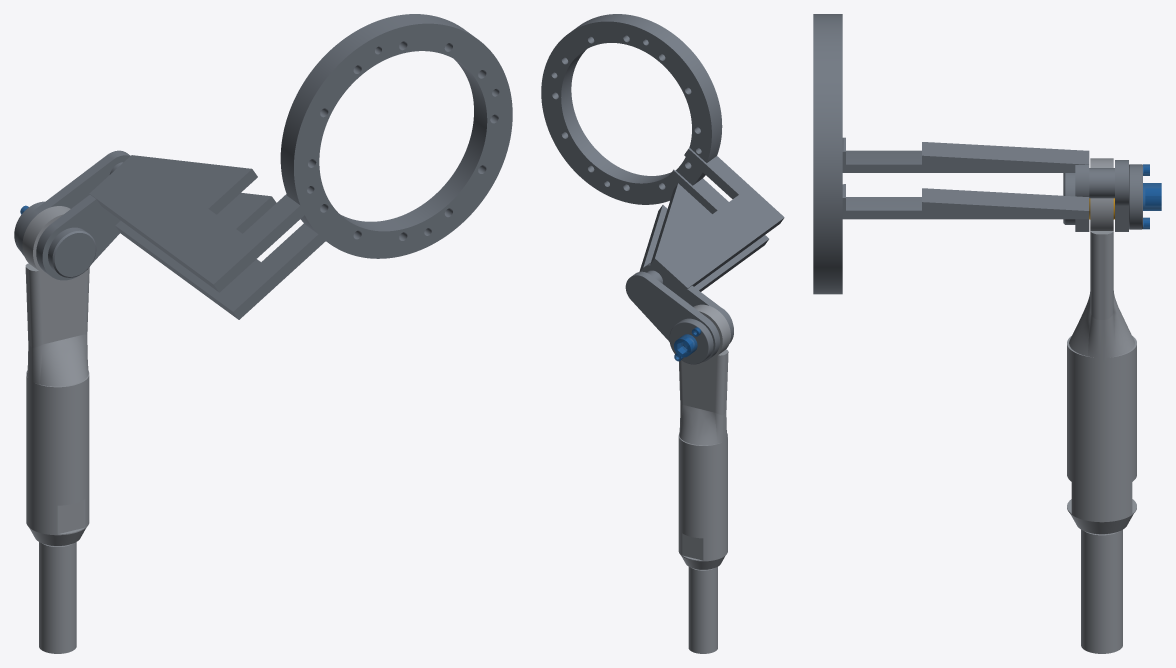
Rendered from j3-articulation.glb.
The picture shows the model from 3 angles, left to right: view 1: azimuth 30°, elevation 25°; view 2: azimuth 150°, elevation 25°; view 3: azimuth 270°, elevation 25°; orthographic projection. The views are drawn at different scales.
Visible parts, largest first — view 1: R2-I-J3-ROCKER-R, R2-E-PUSHROD-ROD-R-B, R2-AA-LINK-PIN-FRONT-R; view 2: R2-I-J3-ROCKER-R, R2-E-PUSHROD-ROD-R-B, R2-AB-LINK-PIN-KEEPER-FRONT-R, REF-LINK-CLAMP-SCREW-FRONT-R; view 3: R2-I-J3-ROCKER-R, R2-E-PUSHROD-ROD-R-B, R2-AB-LINK-PIN-KEEPER-FRONT-R, REF-LINK-CLAMP-SCREW-FRONT-R.
Boxes of the visible parts, box(x1,y1,x2,y2) form: R2-I-J3-ROCKER-R: box(18, 14, 512, 319); R2-E-PUSHROD-ROD-R-B: box(22, 206, 89, 653); R2-AA-LINK-PIN-FRONT-R: box(48, 227, 96, 277); R2-I-J3-ROCKER-R: box(541, 14, 784, 362); R2-E-PUSHROD-ROD-R-B: box(678, 304, 730, 653); R2-AB-LINK-PIN-KEEPER-FRONT-R: box(669, 318, 713, 364); REF-LINK-CLAMP-SCREW-FRONT-R: box(674, 334, 697, 357); R2-I-J3-ROCKER-R: box(813, 14, 1128, 294); R2-E-PUSHROD-ROD-R-B: box(1067, 158, 1136, 653); R2-AB-LINK-PIN-KEEPER-FRONT-R: box(1129, 164, 1142, 229); REF-LINK-CLAMP-SCREW-FRONT-R: box(1143, 183, 1161, 210).
Size of the model in its own units: 0.3891 by 0.6934 by 0.298.
